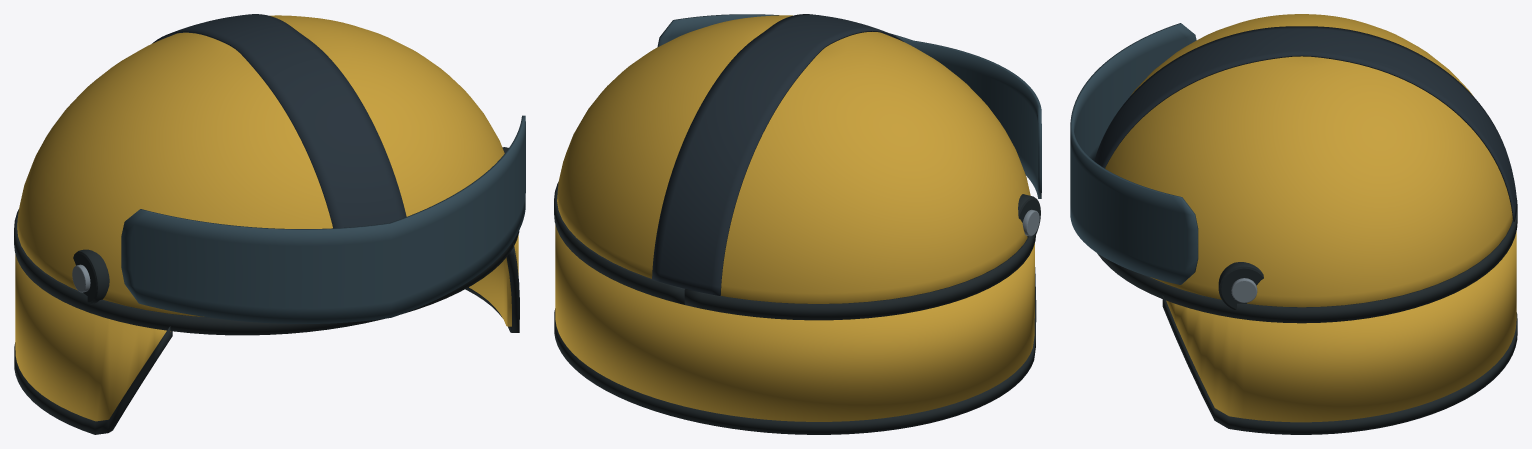
The model's file is goose-headwear-motorcycle.glb.
The picture shows the model from 3 angles, left to right: view 1: azimuth 30°, elevation 25°; view 2: azimuth 150°, elevation 25°; view 3: azimuth 270°, elevation 25°; orthographic projection. The views are drawn at different scales.
Parts seen in each view (by area): view 1: goose_headwear_motorcycle_mesh; view 2: goose_headwear_motorcycle_mesh; view 3: goose_headwear_motorcycle_mesh.
Boxes of the visible parts, x1,y1,x2,y2 form: goose_headwear_motorcycle_mesh: (14, 14, 525, 434); goose_headwear_motorcycle_mesh: (554, 14, 1041, 434); goose_headwear_motorcycle_mesh: (1070, 14, 1517, 434).
Size of the model in its own units: 1.01 by 0.6775 by 0.934.
